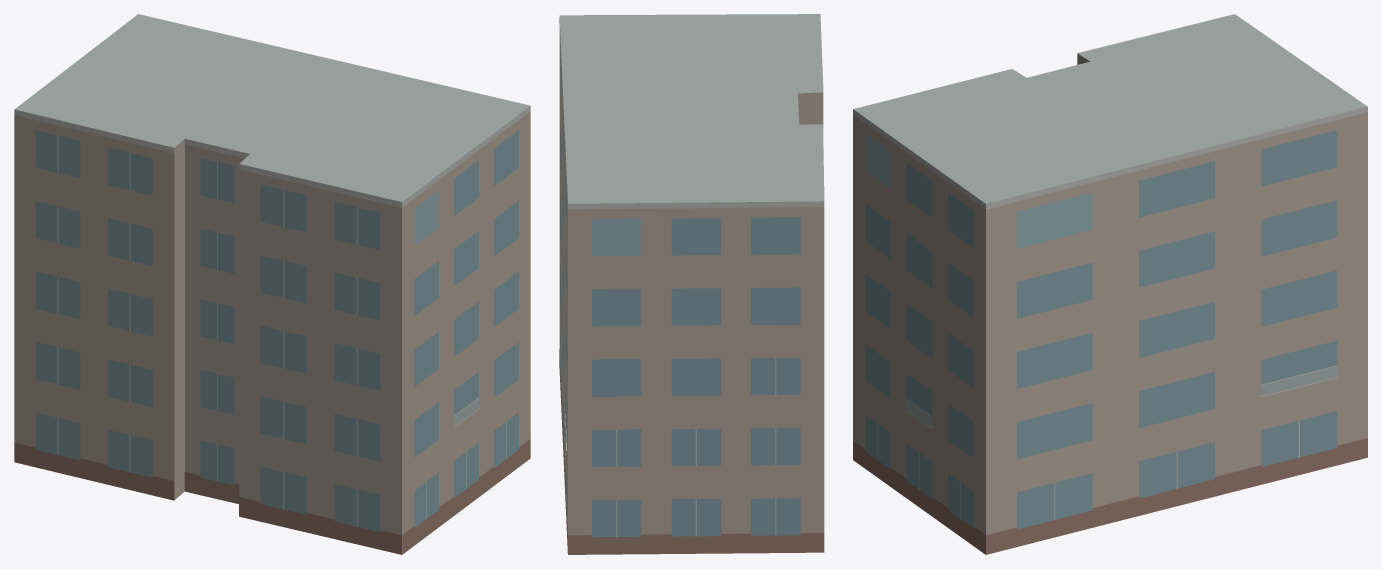
File: survey-upis-32762809.glb
3 views of the same model, side by side, from view 1: azimuth 30°, elevation 25°; view 2: azimuth 150°, elevation 25°; view 3: azimuth 270°, elevation 25° (orthographic).
Visible parts, largest first — view 1: survey-upis-32762809.tmp; view 2: survey-upis-32762809.tmp; view 3: survey-upis-32762809.tmp.
Boxes of the visible parts, x1=… form: survey-upis-32762809.tmp: x1=14, y1=14, x2=530, y2=554; survey-upis-32762809.tmp: x1=559, y1=14, x2=824, y2=554; survey-upis-32762809.tmp: x1=853, y1=14, x2=1367, y2=554.
Size of the model in its own units: 17.88 by 15.4 by 20.48.
